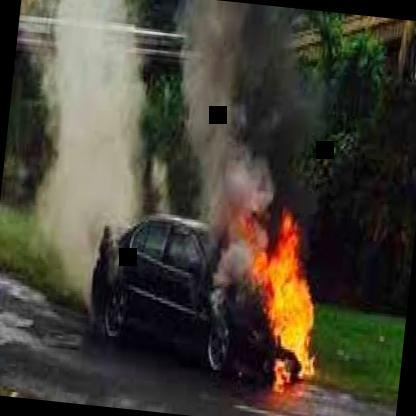fire: (222, 195, 330, 394)
